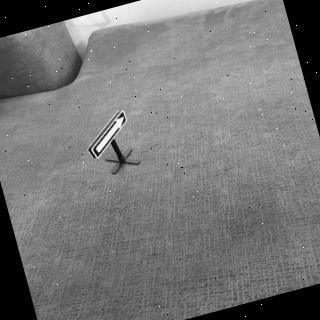sign_oneway_right: (80, 107, 140, 163)
